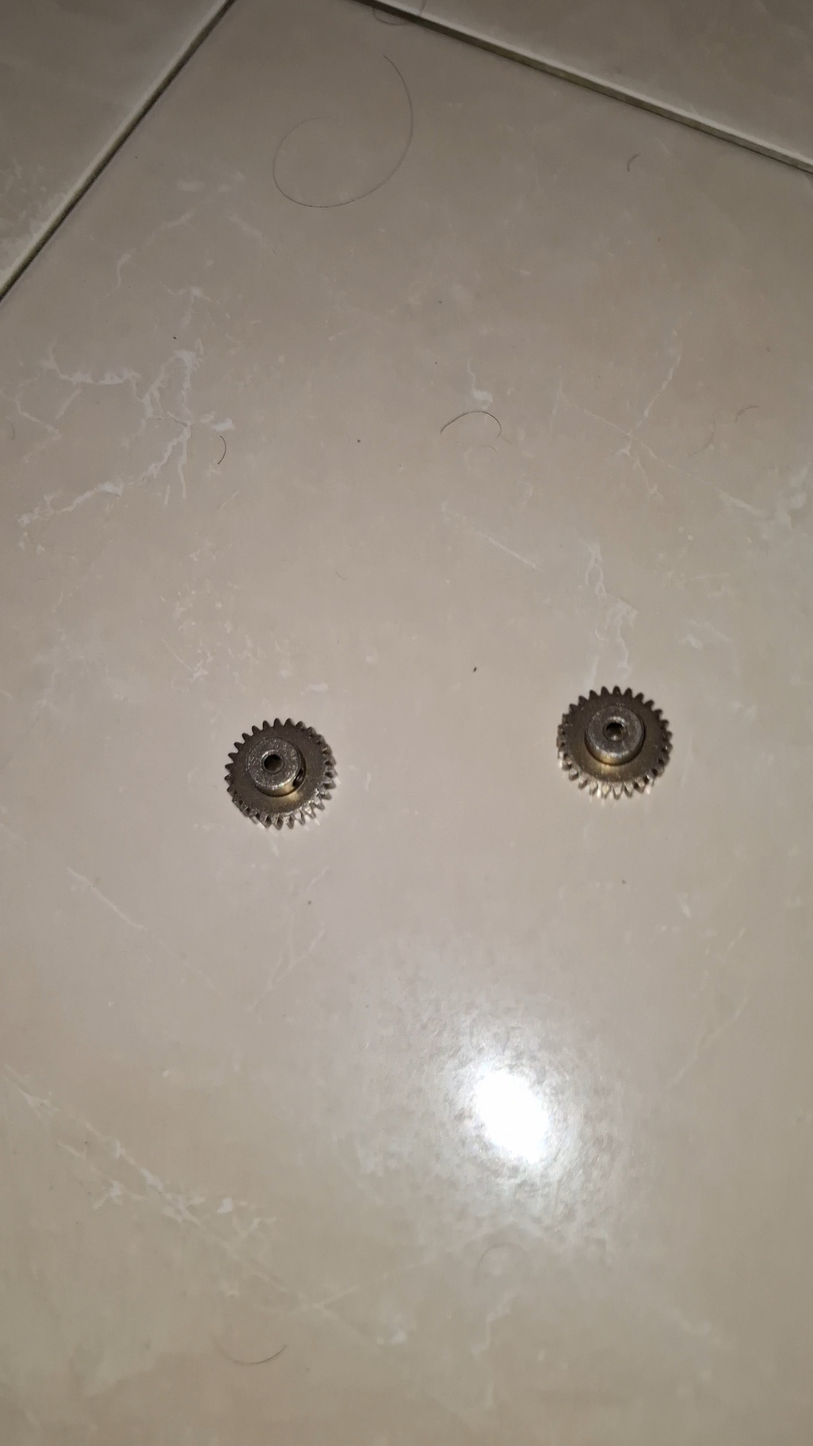spur gear: (563, 682, 676, 792), (235, 717, 343, 825)
